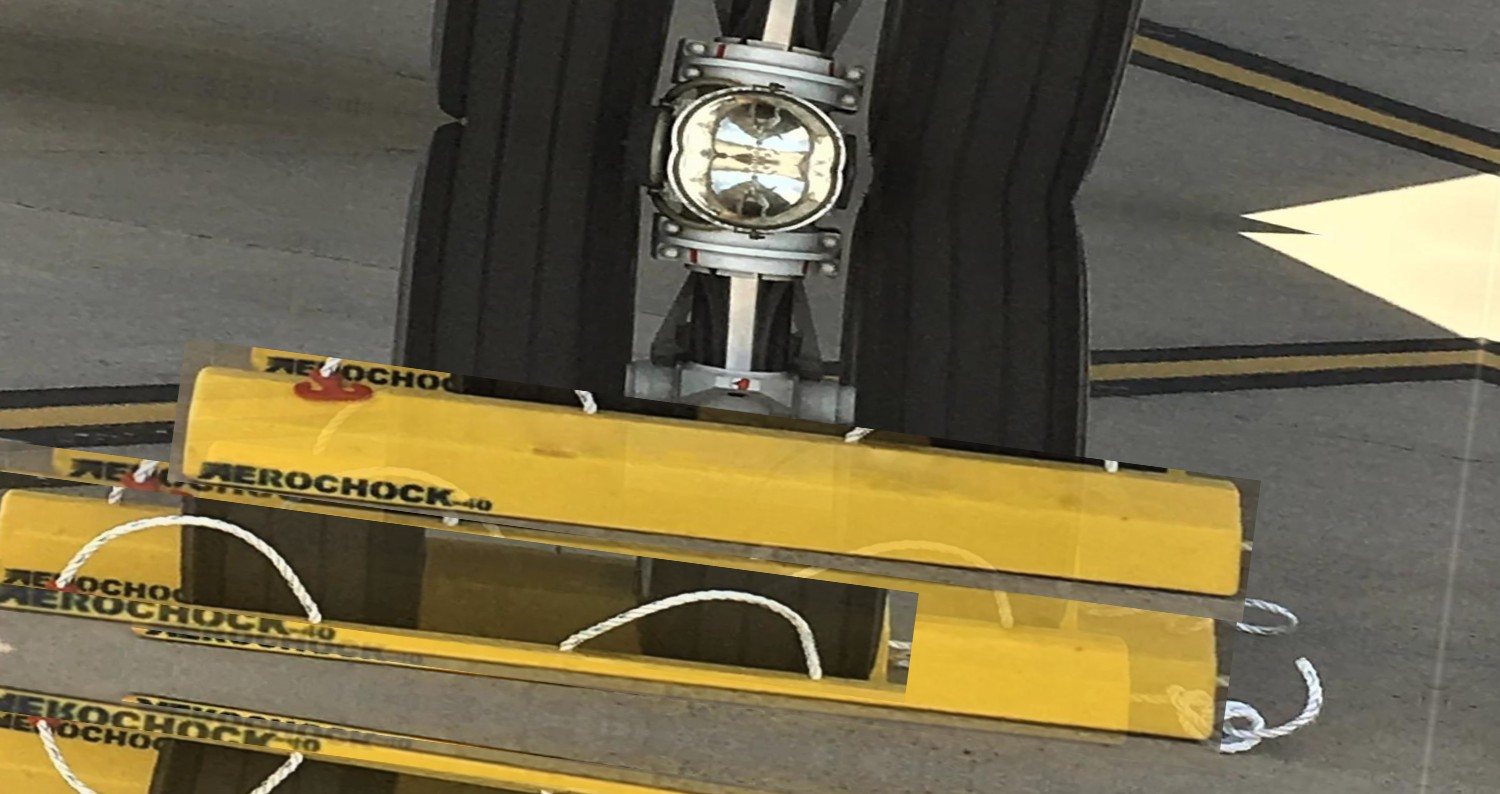chock: (0, 437, 1239, 771), (167, 338, 1261, 623), (117, 502, 1148, 771), (0, 471, 919, 703), (187, 423, 1109, 651), (0, 678, 1207, 794), (93, 689, 1124, 794), (0, 707, 887, 794)
wheel: (801, 173, 1118, 634), (359, 118, 660, 585), (858, 0, 1175, 208), (417, 0, 718, 144)
